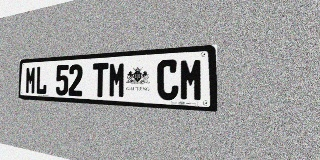2: (69, 64, 83, 96)
5: (56, 65, 69, 96)
C: (157, 59, 179, 101)
L: (36, 66, 47, 95)
M: (179, 58, 204, 102), (108, 62, 126, 98), (25, 66, 36, 94)
T: (92, 63, 108, 97)
